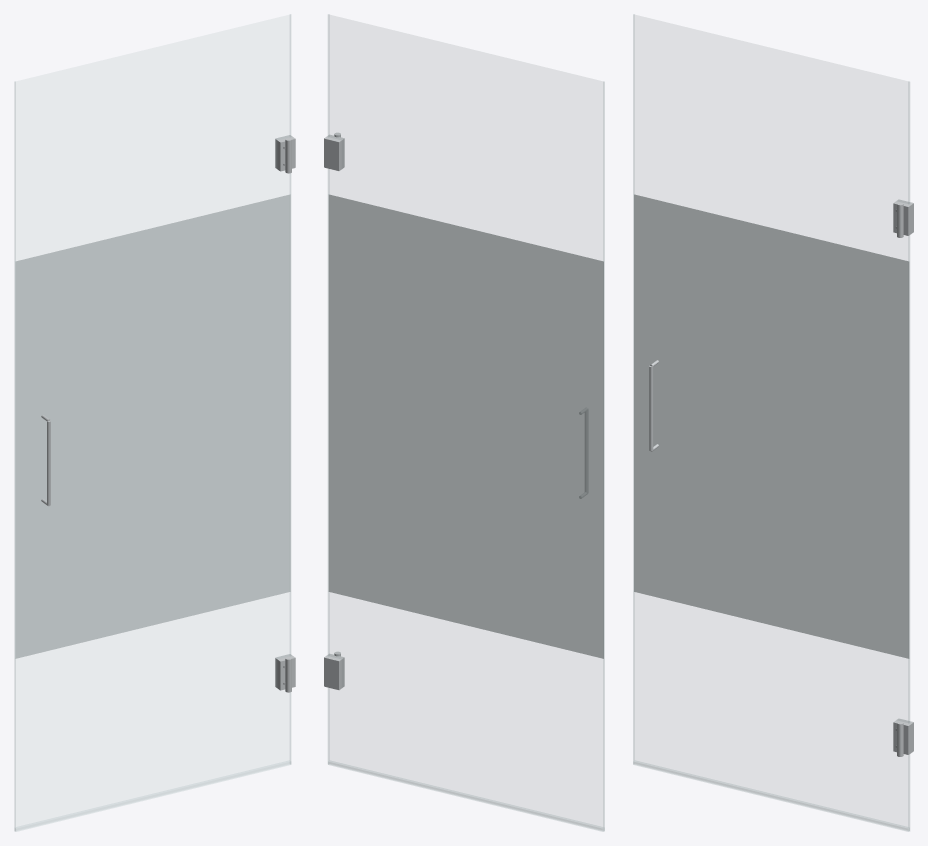
File: frameless-privacy-band-shower-door-11.glb
3 renders of one model, left to right at view 1: azimuth 30°, elevation 25°; view 2: azimuth 150°, elevation 25°; view 3: azimuth 330°, elevation 25°, orthographic.
Visible parts, largest first — view 1: Hinged door privacy band, Hinged door upper clear, Hinged door lower clear, Hinged door lower seal, Hinged door privacy band glass edges, Door hinge plate; view 2: Hinged door privacy band, Hinged door upper clear, Hinged door lower clear, Door hinge plate, Hinged door lower seal, Hinged door privacy band glass edges, Hinged door upper clear glass edges, Hinged door lower clear glass edges; view 3: Hinged door privacy band, Hinged door upper clear, Hinged door lower clear, Hinged door lower seal, Hinged door privacy band glass edges, Door hinge plate, Hinged door upper clear glass edges, Hinged door lower clear glass edges.
Part boxes in pixels (bbox=[...]): Hinged door privacy band: bbox=[15, 194, 290, 658]; Hinged door upper clear: bbox=[16, 15, 289, 260]; Hinged door lower clear: bbox=[16, 592, 289, 827]; Hinged door lower seal: bbox=[15, 761, 290, 831]; Hinged door privacy band glass edges: bbox=[14, 194, 290, 658]; Door hinge plate: bbox=[275, 135, 295, 690]; Hinged door privacy band: bbox=[328, 194, 603, 658]; Hinged door upper clear: bbox=[329, 15, 603, 260]; Hinged door lower clear: bbox=[329, 592, 603, 827]; Door hinge plate: bbox=[324, 134, 344, 690]; Hinged door lower seal: bbox=[328, 761, 604, 831]; Hinged door privacy band glass edges: bbox=[328, 194, 604, 658]; Hinged door upper clear glass edges: bbox=[328, 14, 604, 261]; Hinged door lower clear glass edges: bbox=[328, 592, 604, 831]; Hinged door privacy band: bbox=[634, 194, 909, 658]; Hinged door upper clear: bbox=[634, 15, 907, 260]; Hinged door lower clear: bbox=[634, 592, 907, 827]; Hinged door lower seal: bbox=[633, 760, 909, 831]; Hinged door privacy band glass edges: bbox=[633, 194, 909, 658]; Door hinge plate: bbox=[893, 199, 913, 754]; Hinged door upper clear glass edges: bbox=[633, 14, 909, 261]; Hinged door lower clear glass edges: bbox=[633, 592, 909, 831].
Size of the model in its own units: 0.763 by 1.96 by 0.056.
